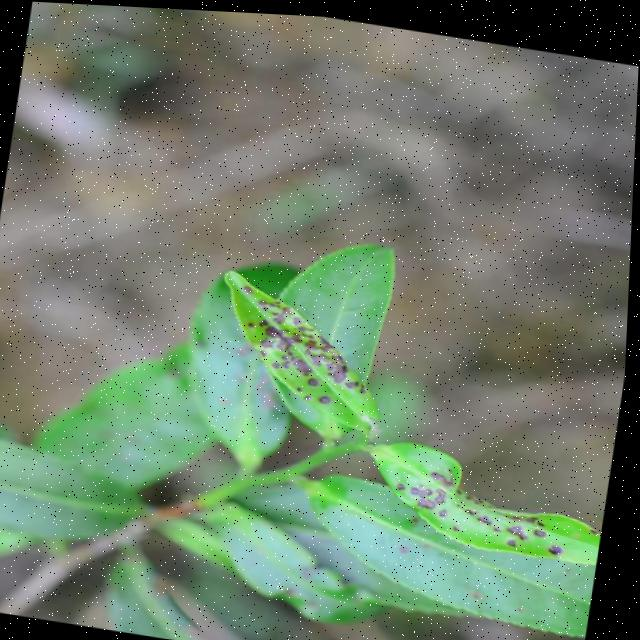Tea red scab: (230, 296, 409, 411), (396, 451, 590, 556)
